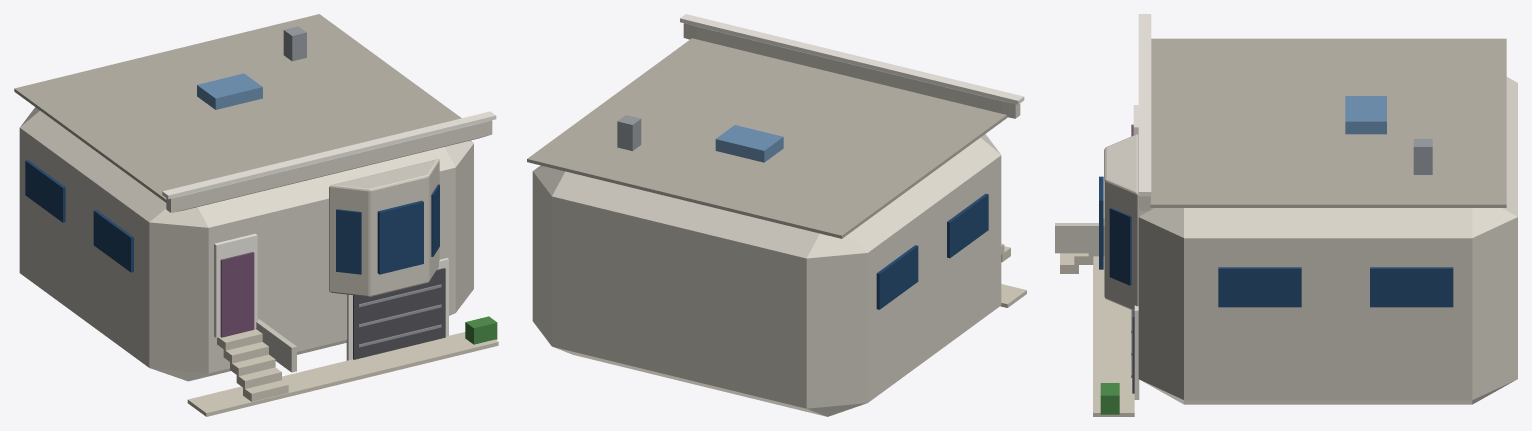
File: sunset_w11_plain_bay_m.glb
The picture shows the model from 3 angles, left to right: view 1: azimuth 30°, elevation 25°; view 2: azimuth 150°, elevation 25°; view 3: azimuth 270°, elevation 25°; orthographic projection. The views are drawn at different scales.
Visible parts, largest first — view 1: walls, roofslab, bay, patio, gdoor, pp1, pcap, bw, door, skylt, bwa, dfr (+12 smaller); view 2: walls, roofslab, pp1, pcap, skylt, sb.002, sb, pipe; view 3: walls, roofslab, patio, bay, sb.001, sb.003, pcap, skylt, bwa.001, srail, pipe, hedge (+2 smaller).
Boxes of the visible parts, left/top/right/bottom form: walls: left=19, top=107, right=473, bottom=381; roofslab: left=14, top=14, right=461, bottom=202; bay: left=329, top=159, right=439, bottom=296; patio: left=187, top=332, right=498, bottom=416; gdoor: left=353, top=268, right=445, bottom=359; pp1: left=166, top=120, right=492, bottom=212; pcap: left=162, top=111, right=496, bottom=199; bw: left=377, top=200, right=423, bottom=274; door: left=220, top=252, right=254, bottom=337; skylt: left=197, top=73, right=262, bottom=109; bwa: left=336, top=209, right=361, bottom=274; dfr: left=214, top=233, right=257, bottom=337; walls: left=532, top=134, right=1001, bottom=416; roofslab: left=527, top=38, right=1007, bottom=238; pp1: left=683, top=23, right=1020, bottom=118; pcap: left=680, top=14, right=1024, bottom=104; skylt: left=715, top=125, right=783, bottom=162; sb.002: left=876, top=245, right=918, bottom=309; sb: left=947, top=193, right=988, bottom=258; pipe: left=617, top=115, right=641, bottom=150; walls: left=1138, top=77, right=1517, bottom=404; roofslab: left=1150, top=38, right=1506, bottom=207; patio: left=1093, top=256, right=1134, bottom=416; bay: left=1104, top=134, right=1138, bottom=310; sb.001: left=1218, top=267, right=1301, bottom=307; sb.003: left=1370, top=267, right=1453, bottom=307; pcap: left=1138, top=14, right=1151, bottom=196; skylt: left=1345, top=96, right=1386, bottom=134; bwa.001: left=1109, top=207, right=1131, bottom=285; srail: left=1055, top=223, right=1104, bottom=253; pipe: left=1413, top=139, right=1432, bottom=174; hedge: left=1100, top=383, right=1119, bottom=414.
Size of the model in its own units: 11.2 by 7.1 by 12.2.
